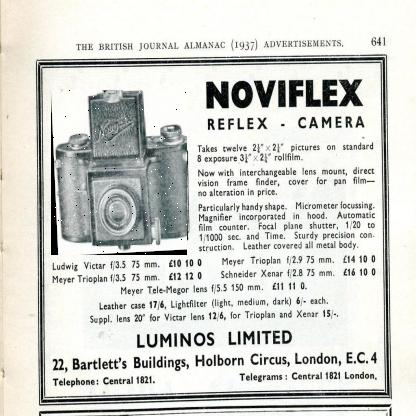Camera: (52, 92, 189, 258)
